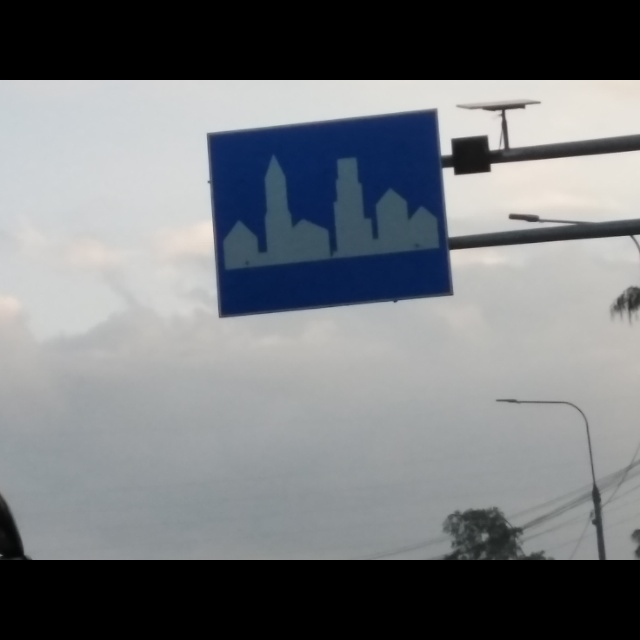Khu đông dân cư: (201, 106, 455, 319)
